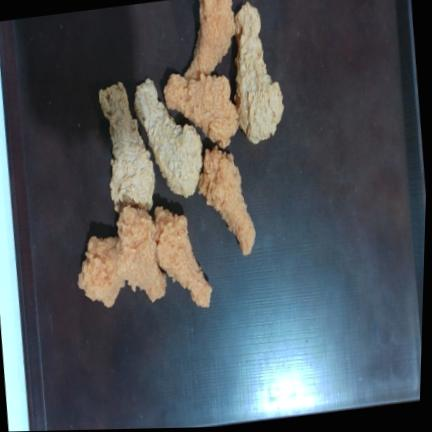chicken: (135, 78, 203, 197), (100, 82, 155, 212), (235, 2, 283, 144), (199, 147, 256, 255), (155, 207, 212, 307), (164, 73, 238, 148), (117, 207, 167, 301), (184, 0, 235, 79), (78, 236, 125, 307)
